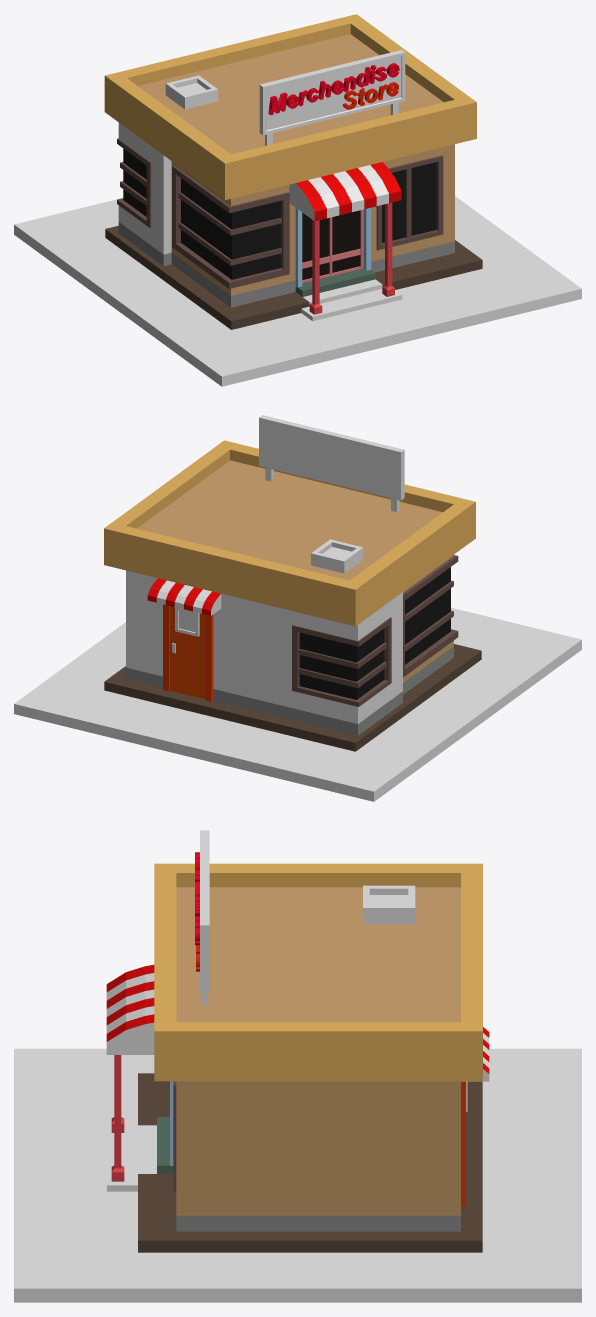
File: Building_Retail_sotre.fbx
3 renders of one model, top to bottom at view 1: azimuth 30°, elevation 25°; view 2: azimuth 150°, elevation 25°; view 3: azimuth 270°, elevation 25°, orthographic. The views are drawn at different scales.
Parts seen in each view (by area): view 1: Cube, Cube.003, Cube.019, Cube.010, Plane, Cube.011, Cube.009, Text, Cube.016, Cube.015, Cube.017, Cube.013 (+4 smaller); view 2: Cube, Cube.003, Cube.019, Cube.013, Cube.010, Plane.001, Cube.017, Cube.004; view 3: Cube, Cube.003, Plane, Cube.017, Cube.019, Cube.015, Cube.016, Cube.014.
Boxes of the visible parts, x1,y1,x2,y2 form: Cube: [104, 14, 482, 329]; Cube.003: [14, 196, 581, 386]; Cube.019: [259, 50, 405, 135]; Cube.010: [172, 165, 289, 288]; Plane: [289, 162, 401, 221]; Cube.011: [302, 210, 360, 280]; Cube.009: [376, 155, 443, 250]; Text: [268, 63, 399, 115]; Cube.016: [309, 202, 394, 314]; Cube.015: [301, 289, 402, 321]; Cube.017: [165, 75, 218, 109]; Cube.013: [117, 138, 151, 227]; Cube: [104, 440, 481, 751]; Cube.003: [14, 607, 581, 801]; Cube.019: [259, 415, 404, 500]; Cube.013: [292, 617, 391, 706]; Cube.010: [403, 555, 458, 677]; Plane.001: [147, 578, 221, 615]; Cube.017: [311, 539, 363, 573]; Cube.004: [175, 607, 199, 636]; Cube: [138, 863, 482, 1252]; Cube.003: [14, 1048, 581, 1302]; Plane: [106, 964, 154, 1054]; Cube.017: [363, 885, 415, 924]; Cube.019: [200, 830, 209, 991]; Cube.015: [107, 1125, 137, 1191]; Cube.016: [111, 1055, 124, 1181]; Cube.014: [157, 1117, 173, 1173].
Size of the model in its own units: 775 by 459 by 775.
